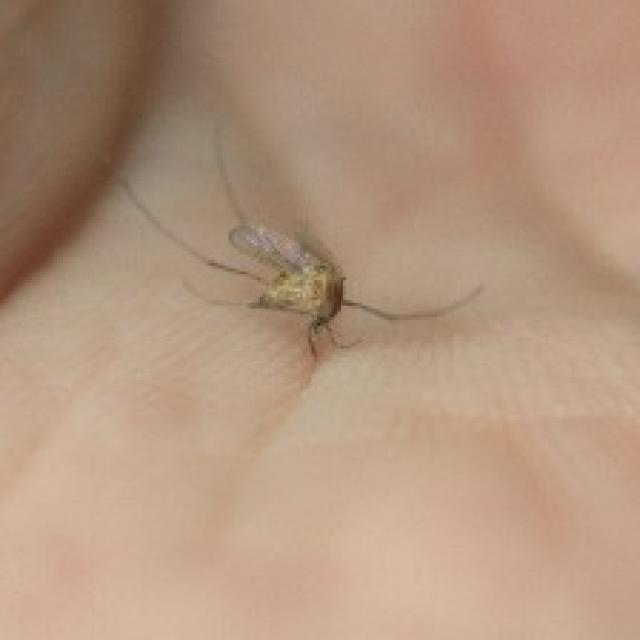culex: (117, 126, 483, 363)
